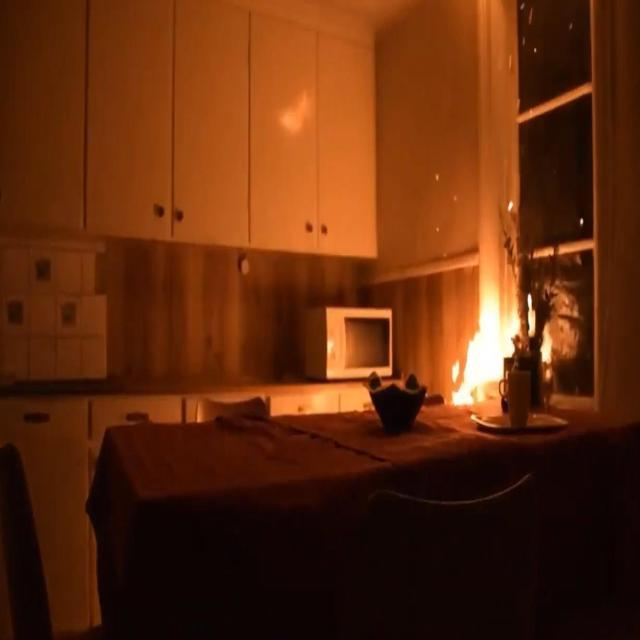smoke: (444, 290, 519, 416), (528, 292, 532, 310)
